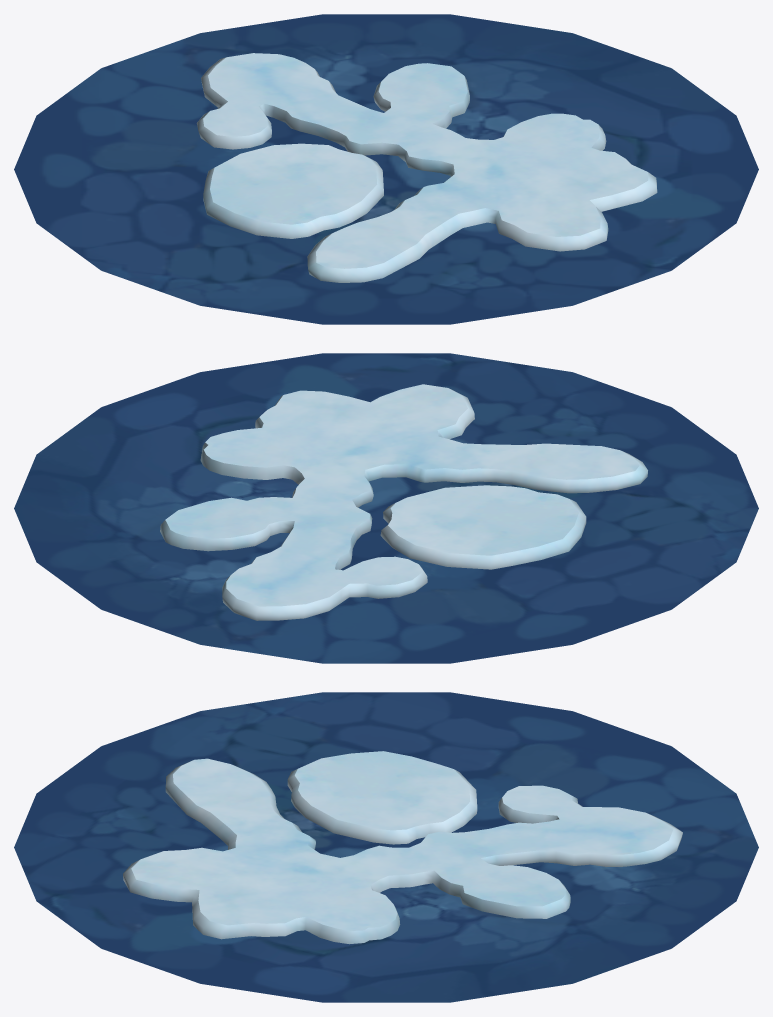
File: dimain01.FBX
The picture shows the model from 3 angles, top to bottom: view 1: azimuth 30°, elevation 25°; view 2: azimuth 150°, elevation 25°; view 3: azimuth 270°, elevation 25°; orthographic projection.
Parts seen in each view (by area): view 1: WaterSnow, dimian; view 2: WaterSnow, dimian; view 3: WaterSnow, dimian.
Boxes of the visible parts, left/top/right/bottom form: WaterSnow: left=14, top=14, right=758, bottom=324; dimian: left=196, top=53, right=657, bottom=282; WaterSnow: left=14, top=353, right=758, bottom=663; dimian: left=160, top=384, right=647, bottom=620; WaterSnow: left=14, top=692, right=758, bottom=1002; dimian: left=123, top=751, right=682, bottom=944.
Bounding box in the file's own units: 6339 × 105 × 6437.
